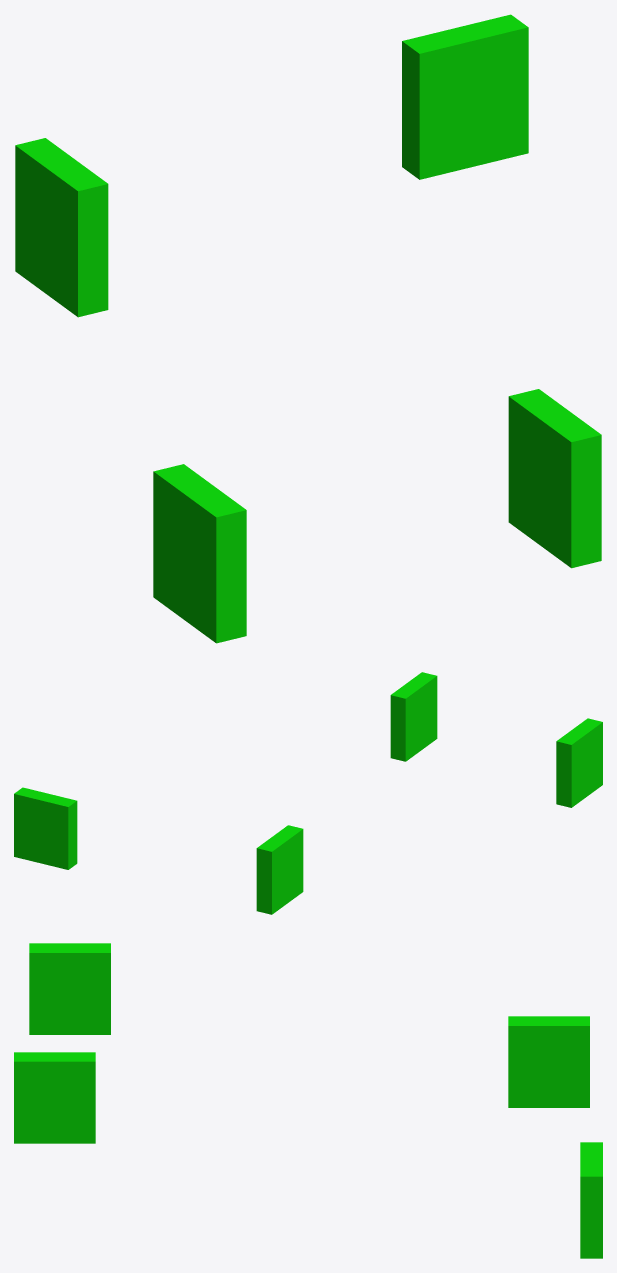
The model's file is GREEN_DOORS.glb.
3 views of the same model, one above another, from view 1: azimuth 30°, elevation 25°; view 2: azimuth 150°, elevation 25°; view 3: azimuth 270°, elevation 25° (orthographic). The views are drawn at different scales.
Visible parts, largest first — view 1: WALLSGREEN; view 2: WALLSGREEN; view 3: WALLSGREEN.
Boxes of the visible parts, <box> form: WALLSGREEN: <box>15,14,601,643</box>; WALLSGREEN: <box>14,672,602,914</box>; WALLSGREEN: <box>14,943,602,1258</box>.
Size of the model in its own units: 24.24 by 3.96 by 25.86.
